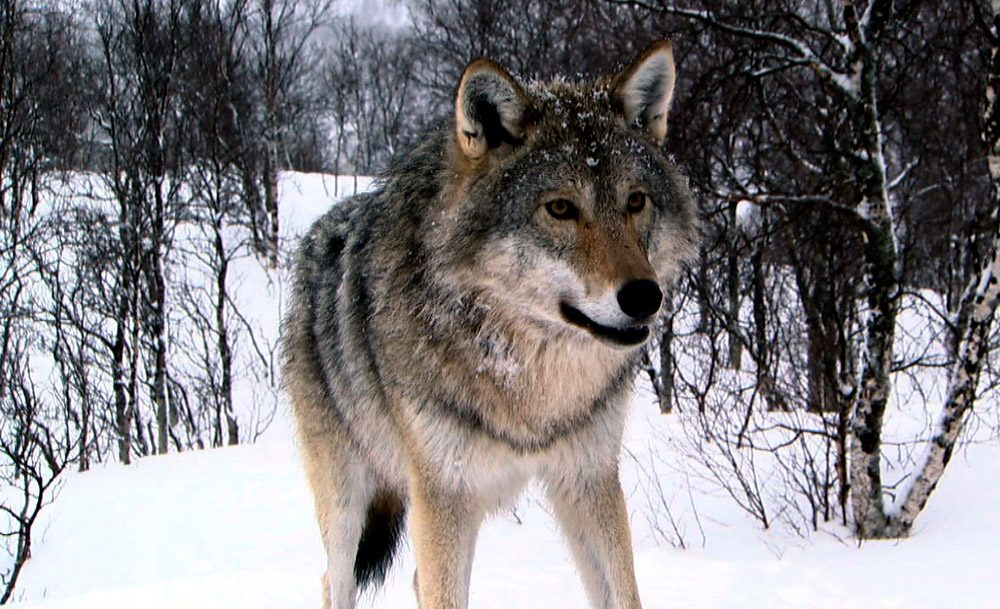Lobo: (295, 22, 698, 600)
